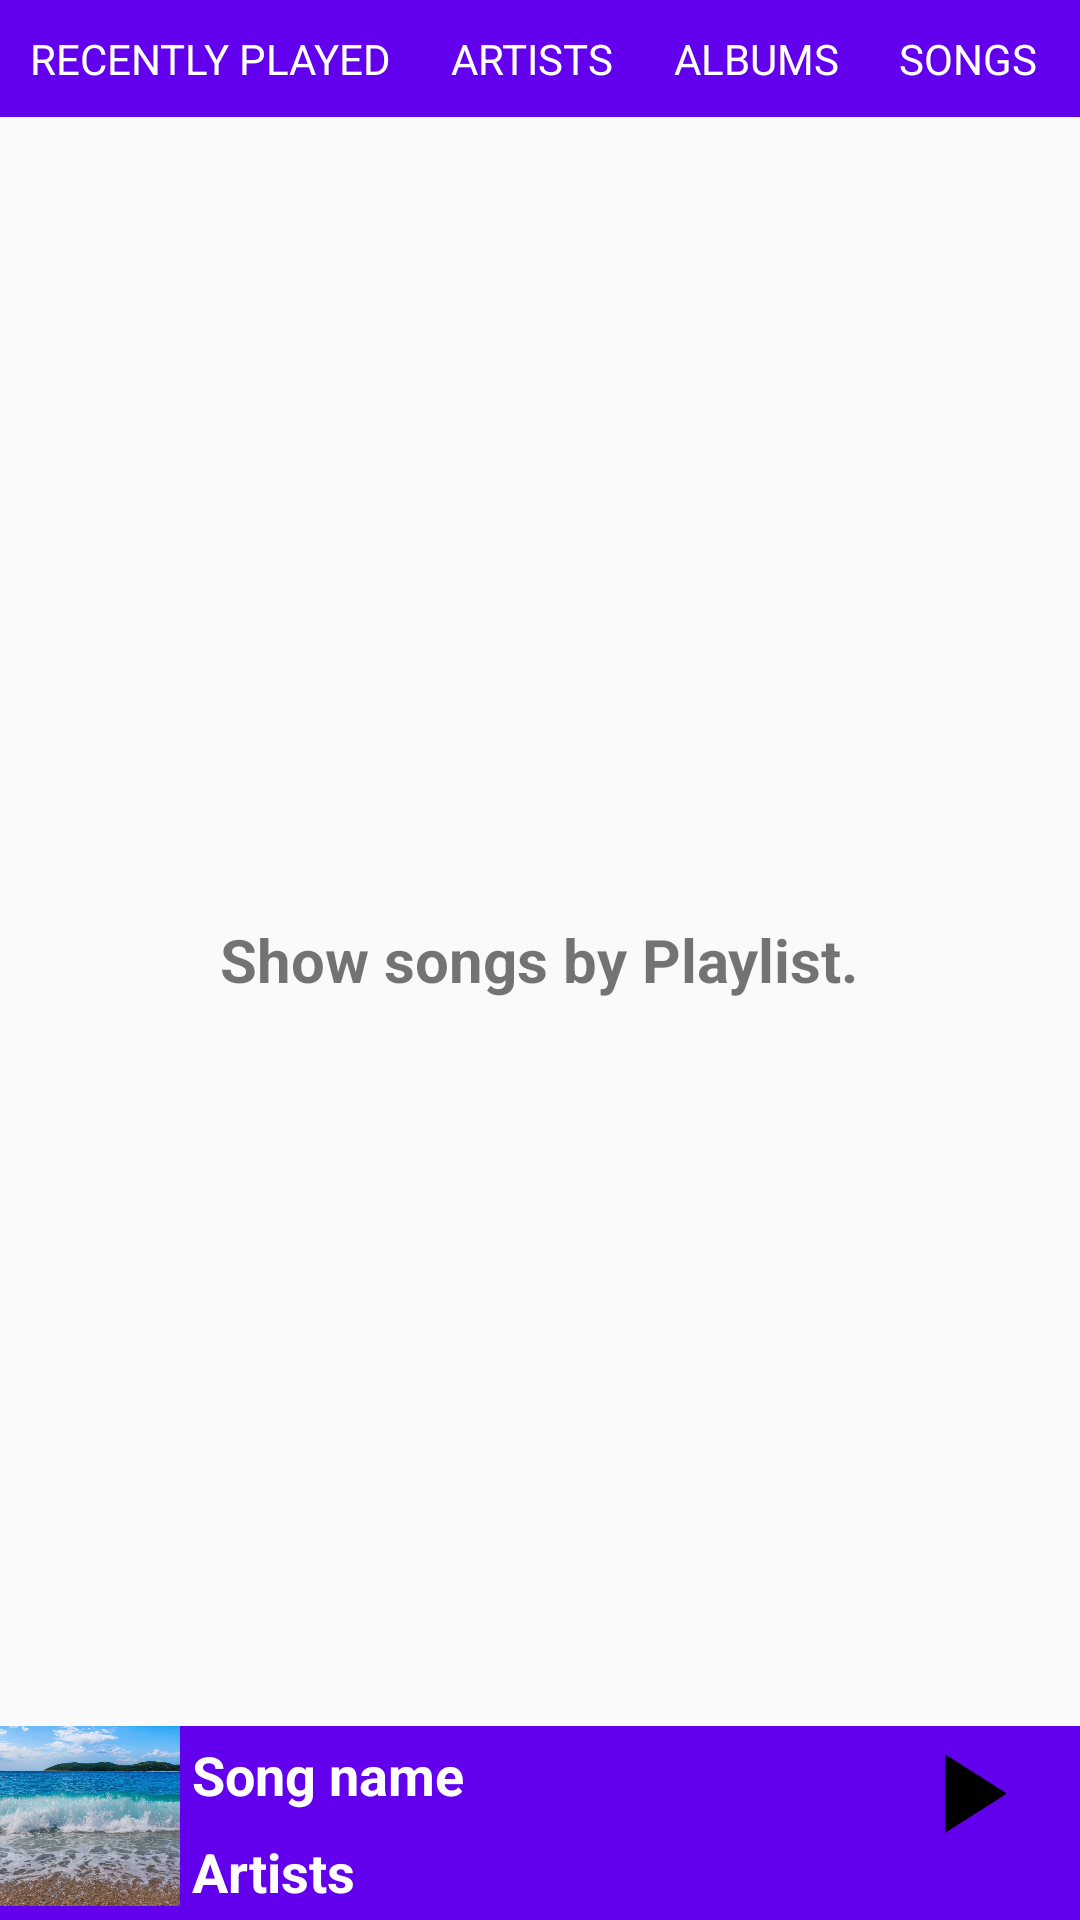

Named icons in this screenshot (1080 × 1920) and their bounding boxes, (x1, y1, x2, y2):
album artwork: (0, 1726, 180, 1906)
play arrow: (945, 1754, 1007, 1833)
